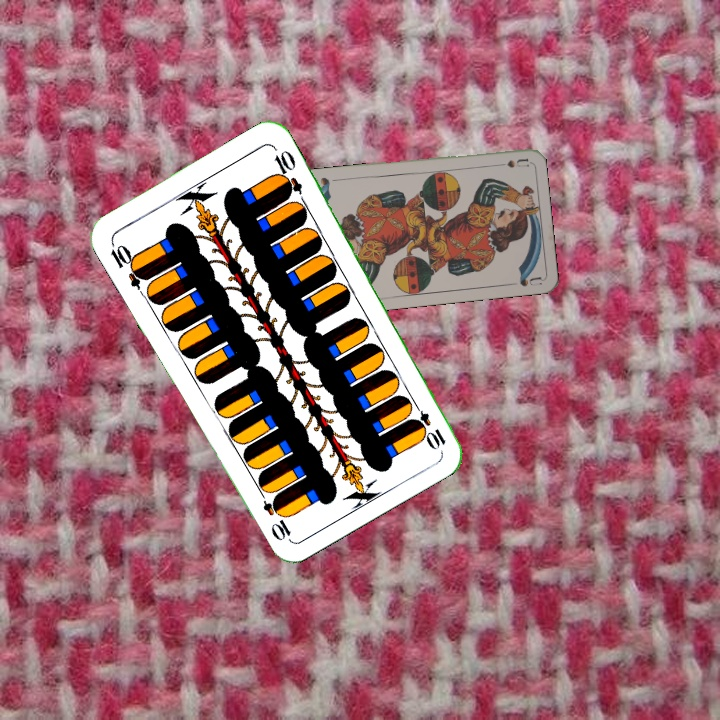E10: (106, 237, 150, 291), (407, 397, 449, 451)
SU: (489, 155, 530, 170)
